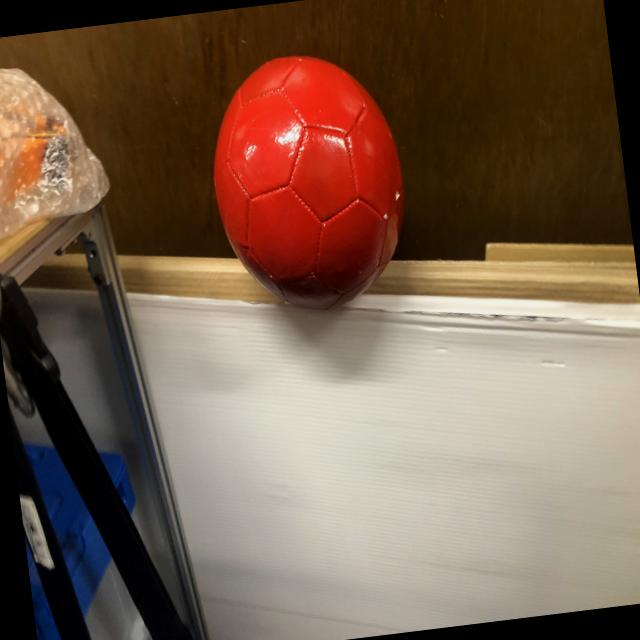red_ball: (200, 44, 418, 328)
